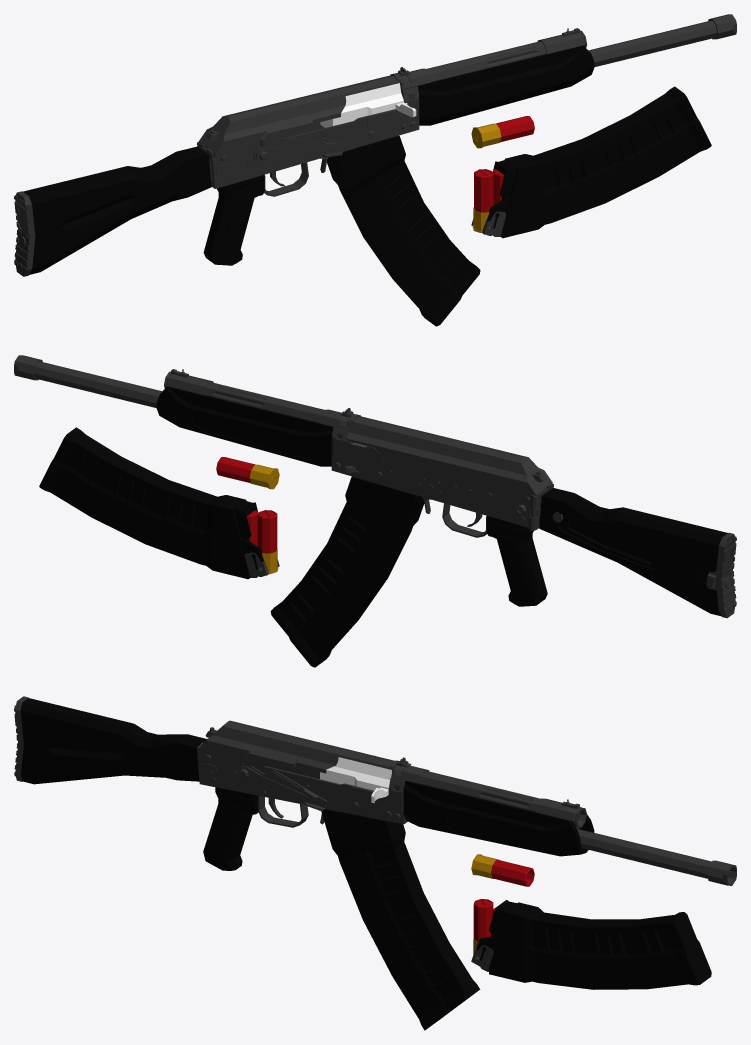
Rendered from low-poly_saiga-12k_ex.10.glb.
3 renders of one model, top to bottom at view 1: azimuth 30°, elevation 25°; view 2: azimuth 150°, elevation 25°; view 3: azimuth 330°, elevation 25°, orthographic.
Visible parts, largest first — view 1: saiga 12_6, 1276 saiga mag 10rnd_2, 1276 saiga mag empty 10rnd_1, saiga stock_8, saiga bolt_4, saiga mode_3, Object_4, Object_5; view 2: saiga 12_6, 1276 saiga mag 10rnd_2, 1276 saiga mag empty 10rnd_1, saiga stock_8, Object_4, Object_5; view 3: saiga 12_6, 1276 saiga mag 10rnd_2, 1276 saiga mag empty 10rnd_1, saiga stock_8, saiga bolt_4, saiga mode_3, Object_4, saiga muzzle_9.
Boxes of the visible parts, x1,y1,x2,y2 form: saiga 12_6: [197, 21, 717, 265]; 1276 saiga mag 10rnd_2: [471, 86, 711, 238]; 1276 saiga mag empty 10rnd_1: [323, 127, 480, 326]; saiga stock_8: [14, 146, 212, 276]; saiga bolt_4: [320, 83, 416, 127]; saiga mode_3: [253, 138, 343, 163]; Object_4: [496, 116, 534, 142]; Object_5: [471, 123, 501, 148]; saiga 12_6: [33, 361, 553, 606]; 1276 saiga mag 10rnd_2: [39, 427, 279, 579]; 1276 saiga mag empty 10rnd_1: [270, 476, 424, 667]; saiga stock_8: [530, 488, 736, 618]; Object_4: [216, 457, 255, 483]; Object_5: [249, 464, 279, 489]; saiga 12_6: [197, 720, 711, 878]; 1276 saiga mag 10rnd_2: [471, 899, 711, 989]; 1276 saiga mag empty 10rnd_1: [321, 809, 480, 1030]; saiga stock_8: [14, 696, 206, 784]; saiga bolt_4: [320, 757, 391, 803]; saiga mode_3: [237, 763, 327, 810]; Object_4: [491, 860, 534, 886]; saiga muzzle_9: [707, 860, 736, 885].
Bounding box in the file's own units: 10.16 × 3.56 × 0.7923.
